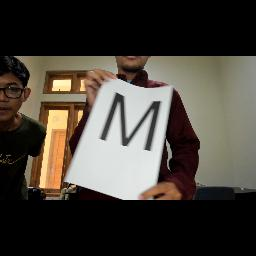m: (92, 84, 164, 160)
